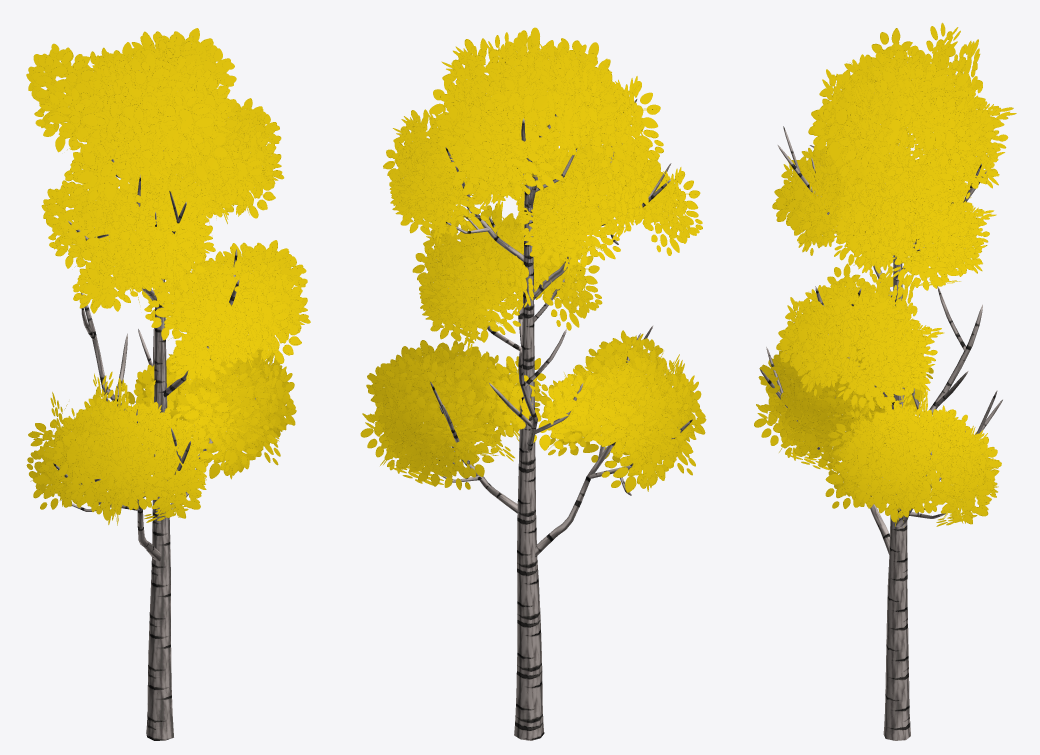
Rendered from BirchTree_2.glb.
The picture shows the model from 3 angles, left to right: view 1: azimuth 30°, elevation 25°; view 2: azimuth 150°, elevation 25°; view 3: azimuth 270°, elevation 25°; orthographic projection. The views are drawn at different scales.
Parts seen in each view (by area): view 1: BirchTree_2; view 2: BirchTree_2; view 3: BirchTree_2.
Boxes of the visible parts, box(x1,y1,x2,y2) form: BirchTree_2: box(26, 28, 310, 740); BirchTree_2: box(360, 27, 706, 740); BirchTree_2: box(754, 22, 1016, 740).
Size of the model in its own units: 3.35 by 7.57 by 2.81.
Materials: 2 (2 with a texture image).
